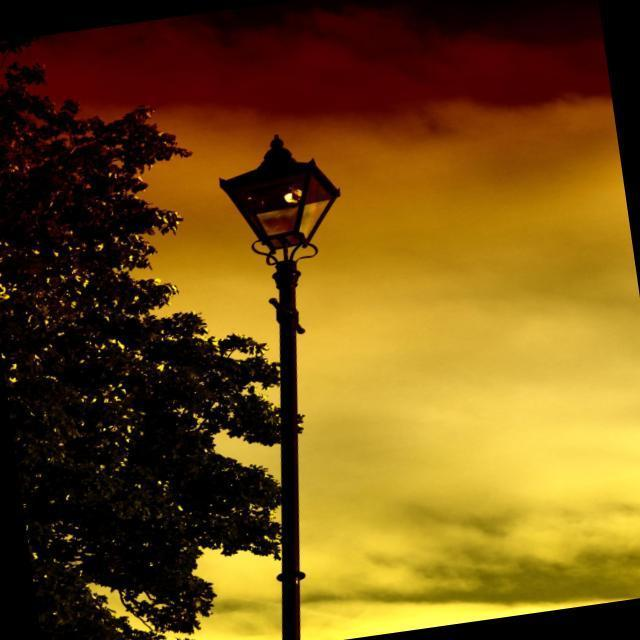on: (209, 109, 342, 293)
